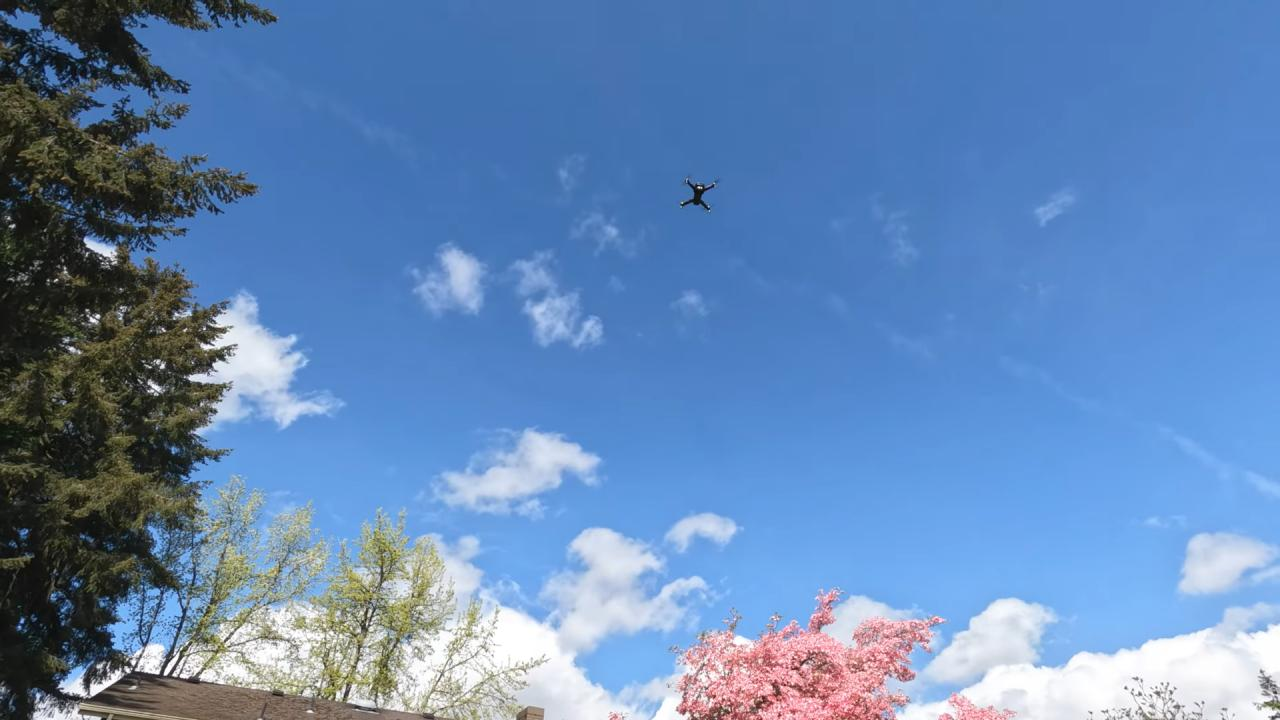Drone: (669, 163, 728, 221)
